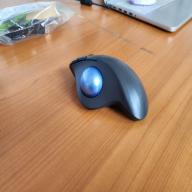Mouse: (69, 54, 149, 122)
